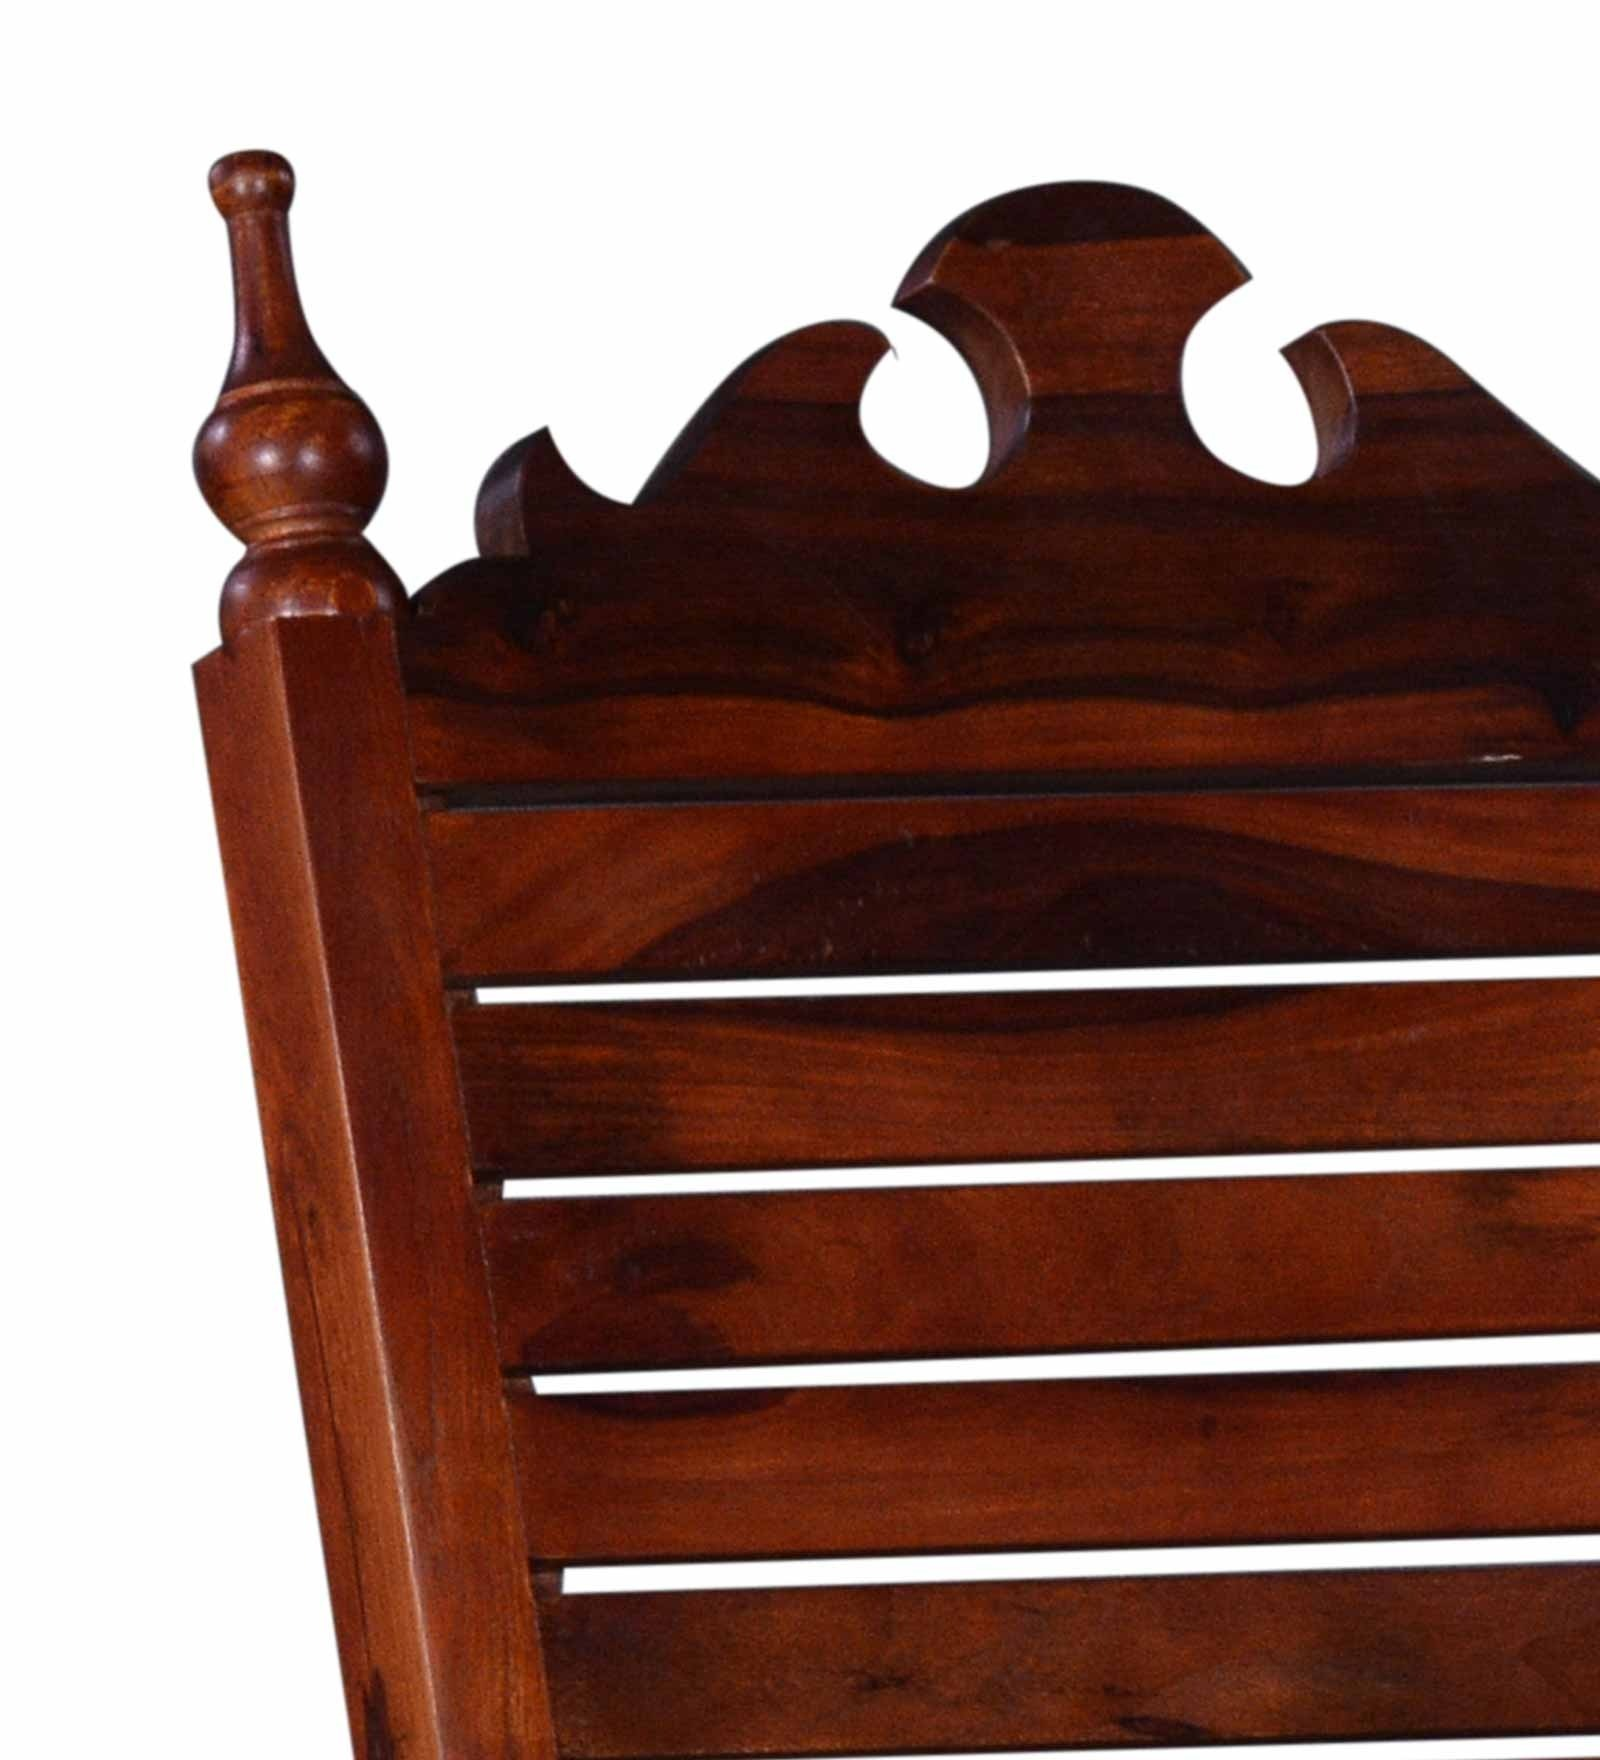Harold Rocking Chair in Honey Oak Finish by Amberville: (133, 97, 1600, 1731)
